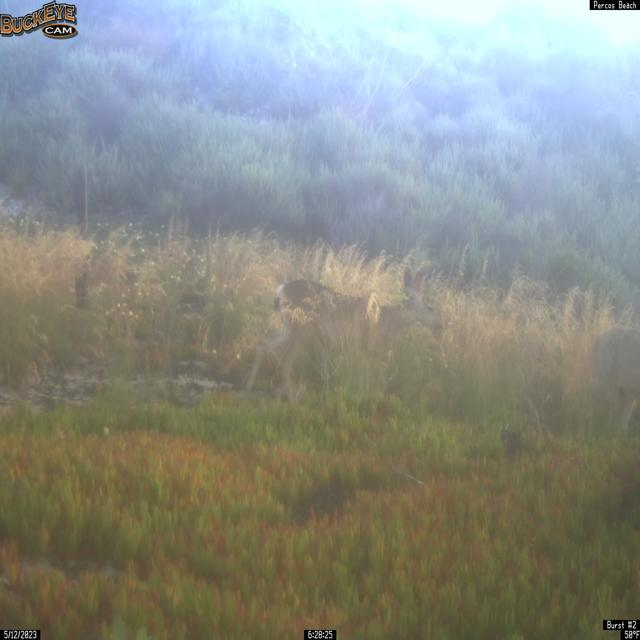deer: (243, 265, 443, 406)
